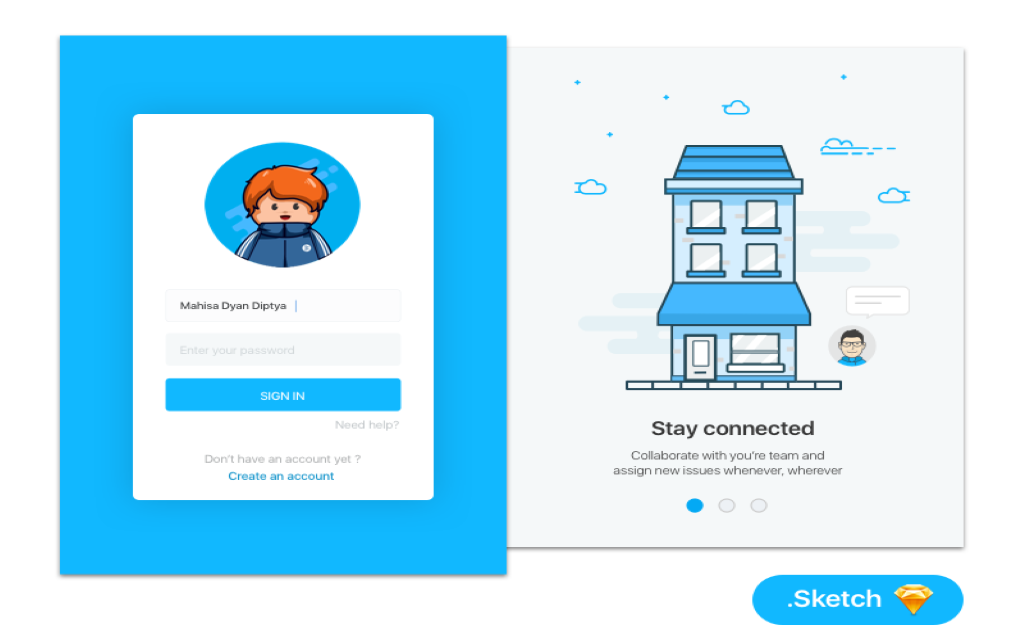button: (165, 378, 401, 410)
label_SignIn: (257, 388, 310, 403)
textbox: (753, 575, 963, 625), (166, 291, 398, 322), (168, 333, 398, 364)
url: (227, 472, 337, 483)
